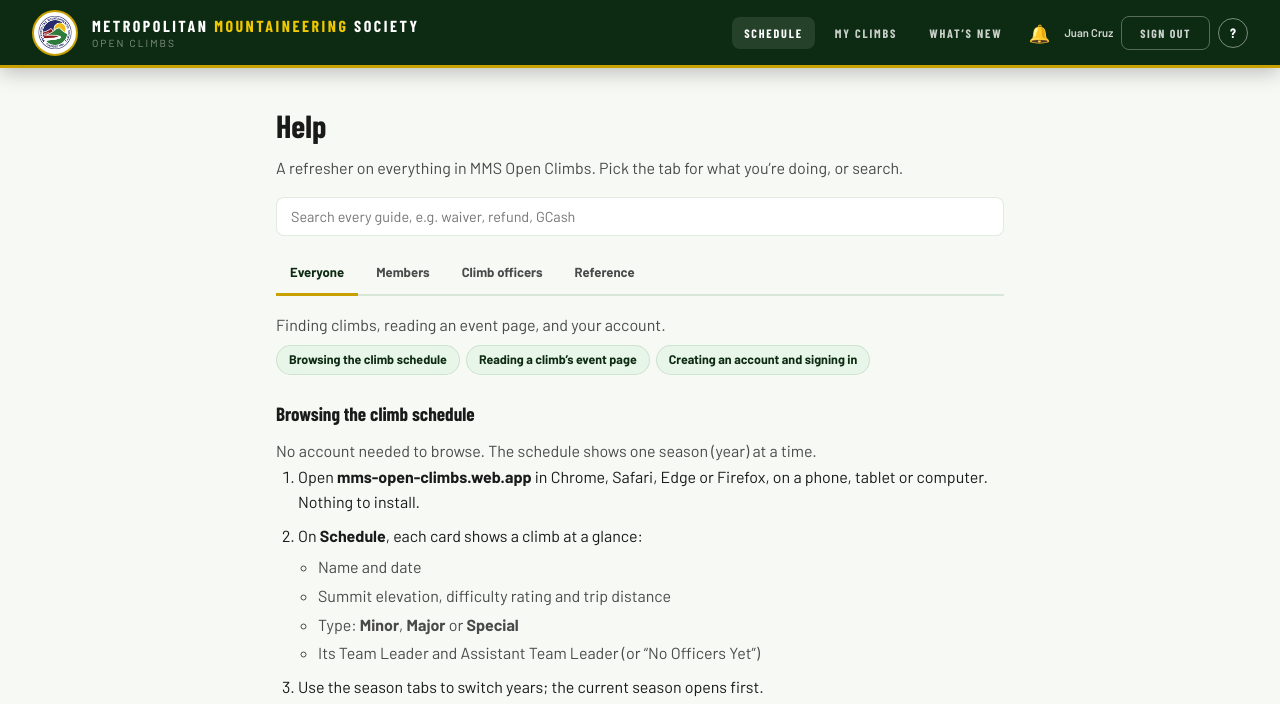
Scenario: Help page › switches tabs, showing only that tab's guides
Click the tab "Members" at (403, 274), box [362,252,444,296]
(page scrolled)
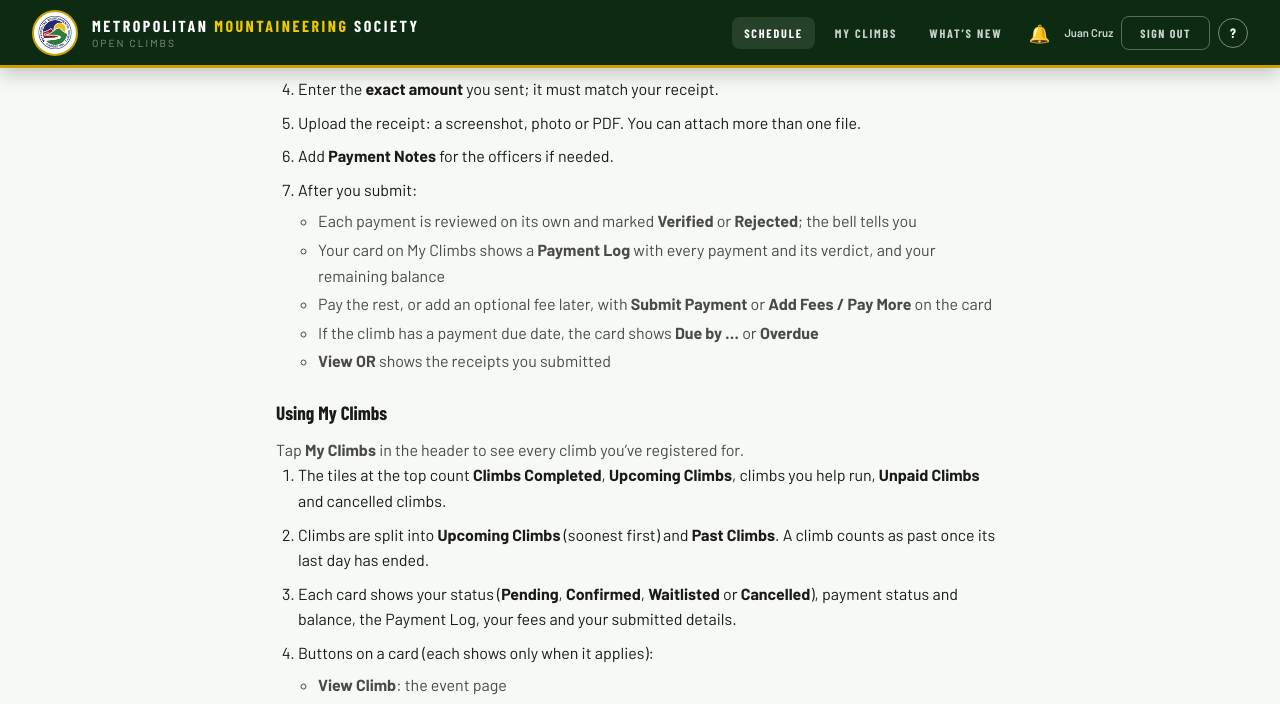
Expected: the heading "Using My Climbs" is shown, [276,401,387,424]
Expected: the text "View OR" is shown, [318,351,376,370]
